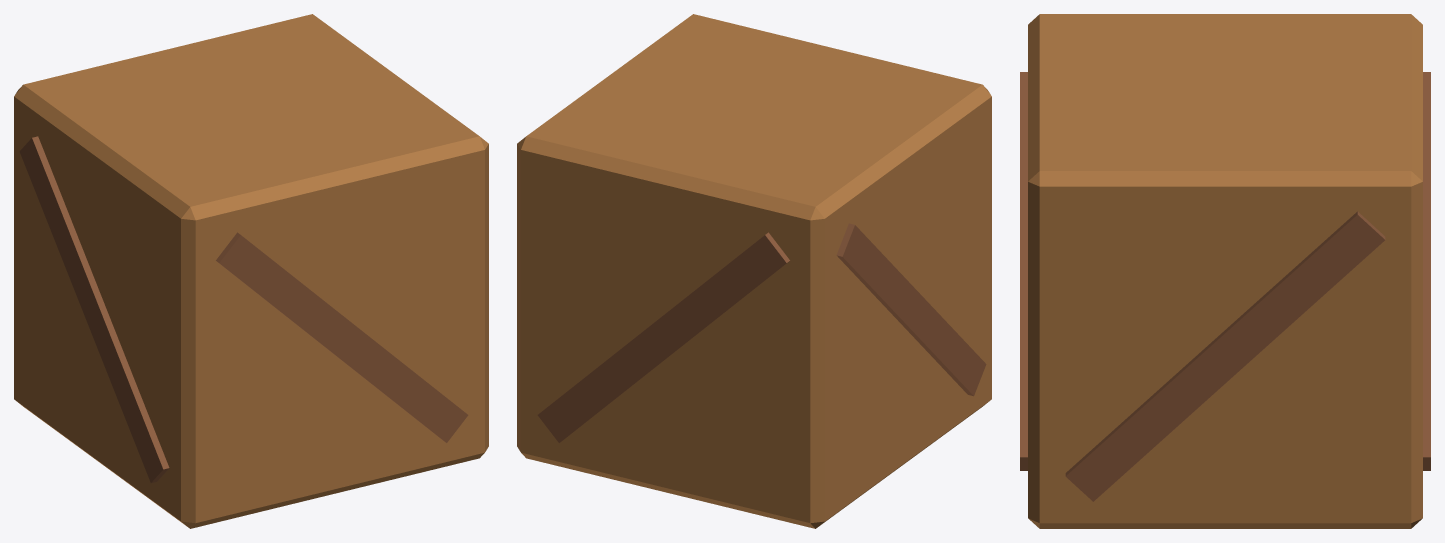
File: crate.glb
3 renders of one model, left to right at view 1: azimuth 30°, elevation 25°; view 2: azimuth 150°, elevation 25°; view 3: azimuth 270°, elevation 25°, orthographic. The views are drawn at different scales.
Parts seen in each view (by area): view 1: crate; view 2: crate; view 3: crate.
Boxes of the visible parts, bbox=[...] form: crate: bbox=[14, 14, 488, 528]; crate: bbox=[517, 14, 991, 528]; crate: bbox=[1020, 14, 1430, 528].
Bounding box in the file's own units: 1.04 × 1 × 1.04.
